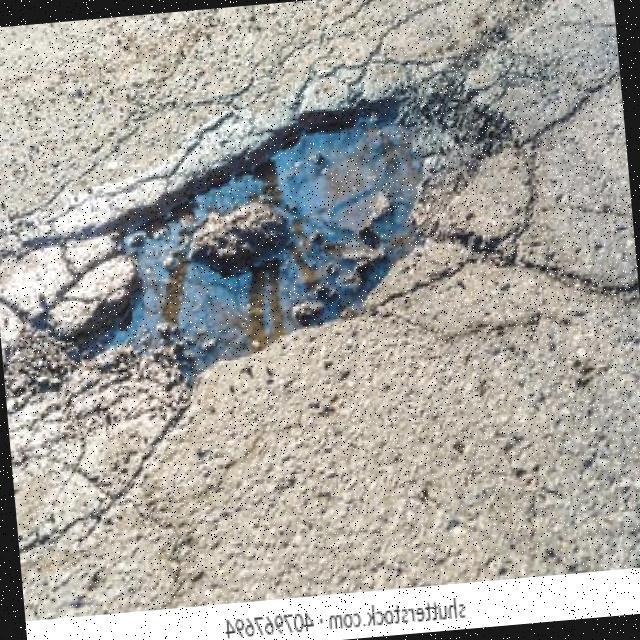Pothole: (48, 85, 521, 379)
